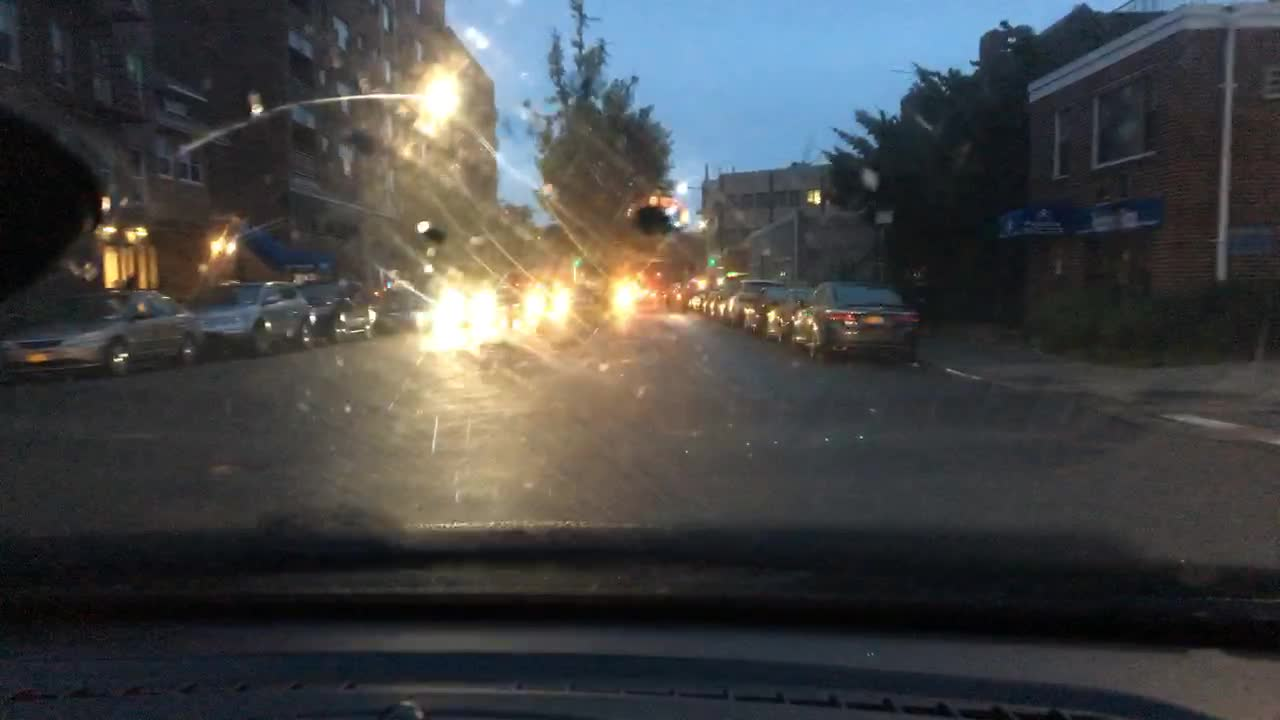car: (1, 286, 196, 374), (787, 279, 921, 361), (194, 276, 320, 355), (300, 279, 377, 341), (764, 285, 845, 342), (382, 279, 464, 334), (723, 278, 781, 327), (742, 285, 791, 334), (517, 276, 574, 318), (611, 278, 664, 313), (702, 278, 737, 316), (685, 291, 703, 308)
